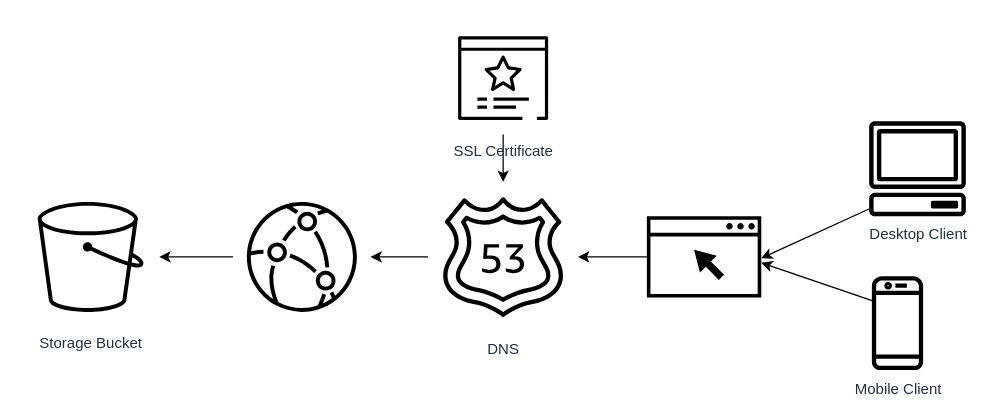
Some shapes in this 988 by 420 pixel diagram are drawn without their labels. Each missing label, with the centre of its shape:
"Browser" goes at point 703,256.
"CDN" goes at point 301,256.
